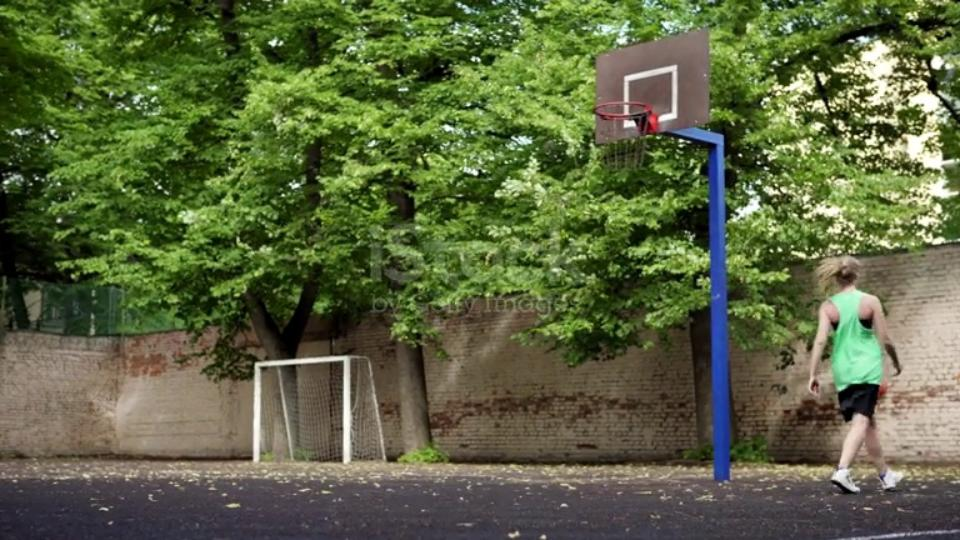hoop: (590, 99, 666, 136)
